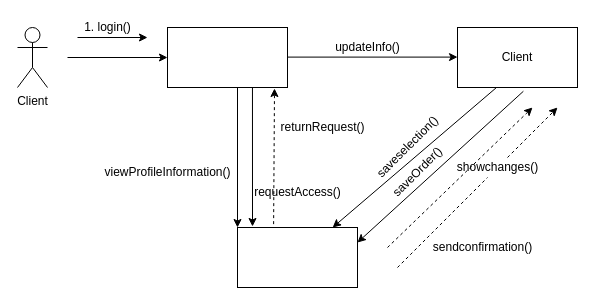
The diagram is 595 pixels wide and 305 high, and some of its shapes have lost their labels. The shapes that lost their labels are listed below. From the top down, each one's box as (x1, y1, x2, y2) in pixels, then its label:
(166, 26, 288, 88): Dashboards
(236, 226, 358, 288): Database
